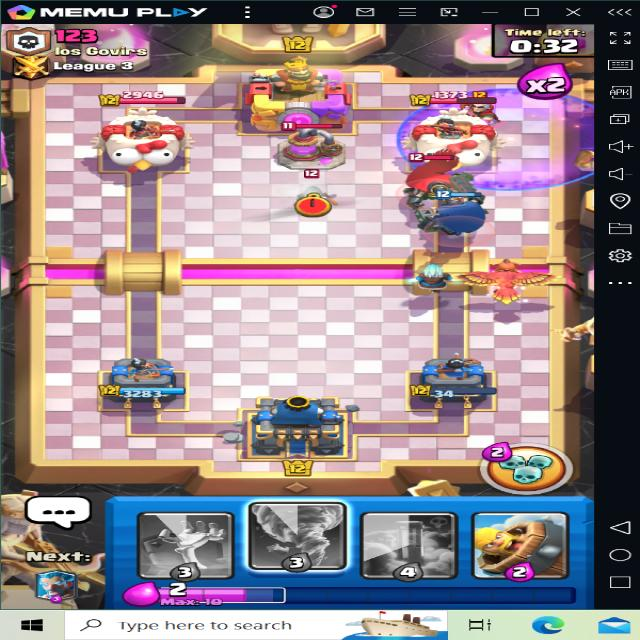bandit: (296, 176, 340, 213)
elixir-collector: (270, 119, 355, 172)
magic-archer: (459, 91, 504, 136)
skeleton-king: (389, 167, 466, 208)
